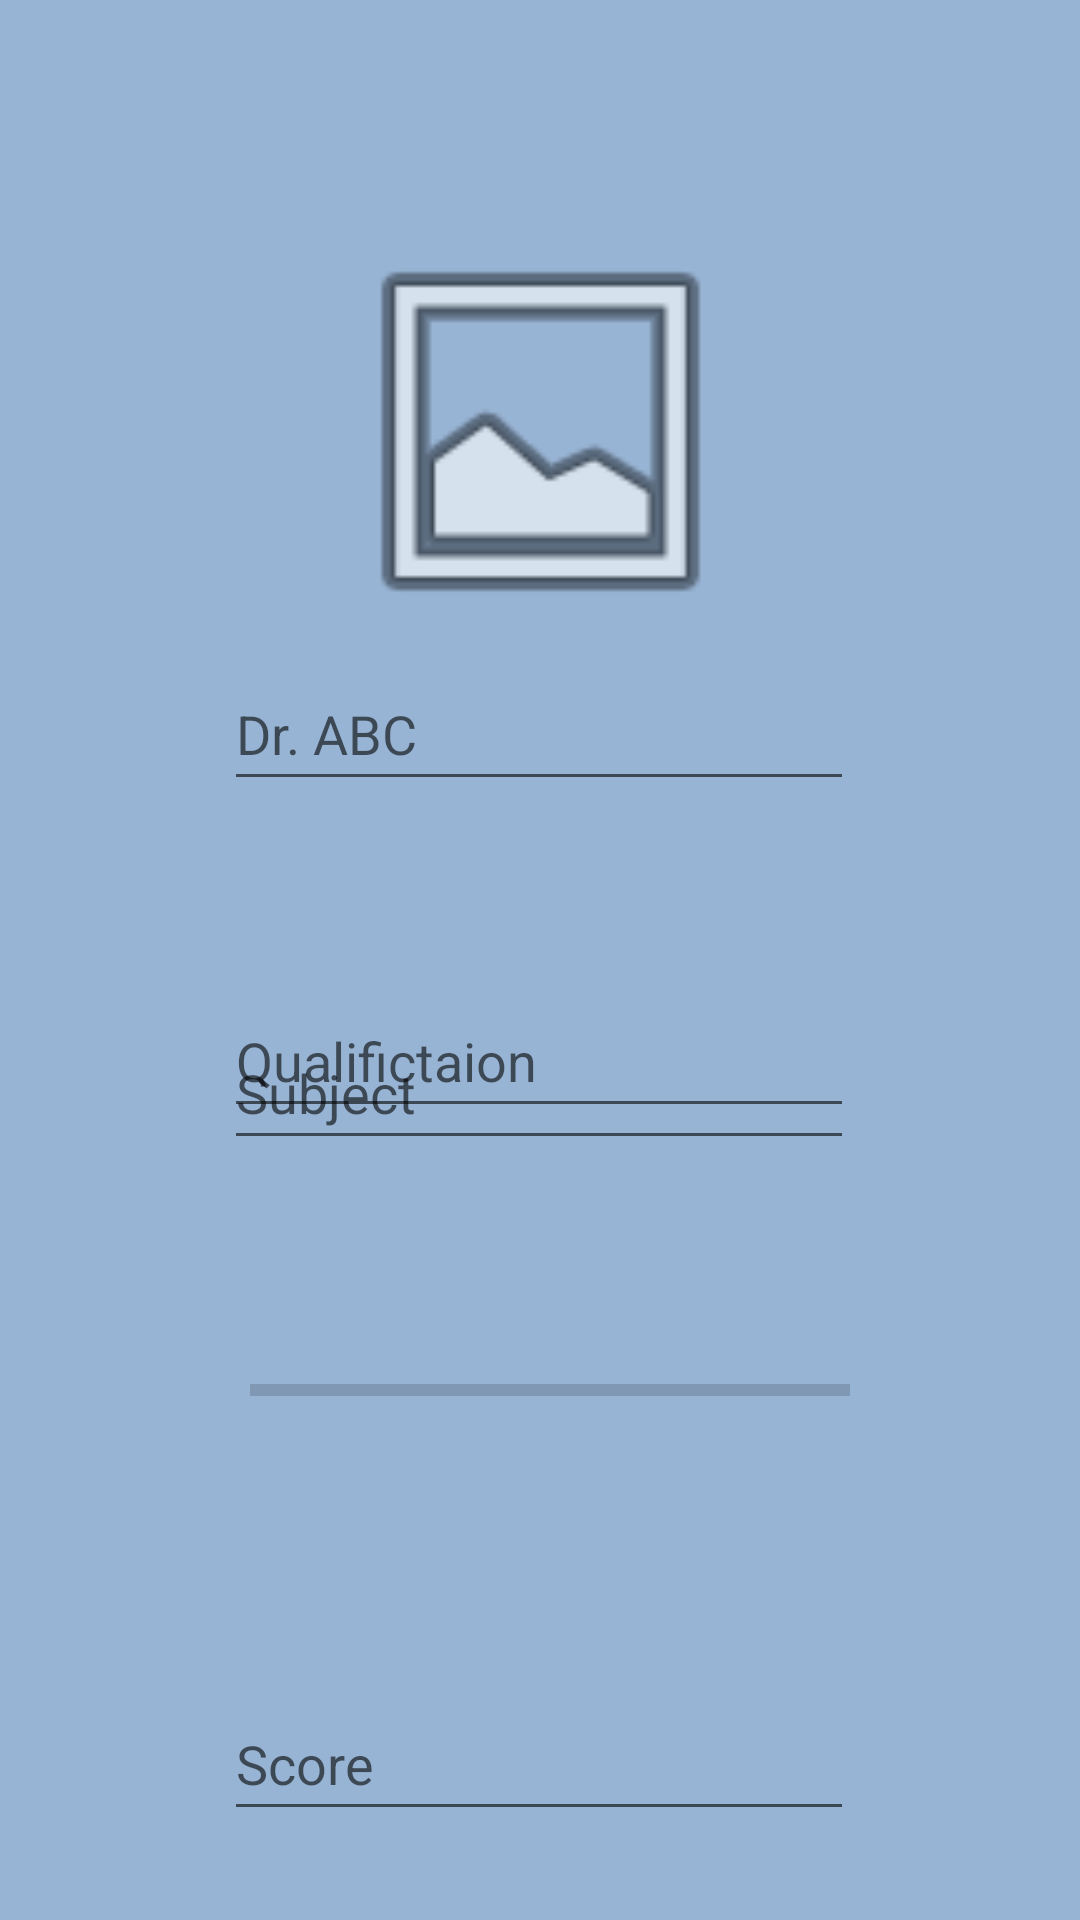

Icons on this 1080x1920 Android screen, each with its box as (x1, y1, x2, y2):
gallery: (381, 272, 700, 591)
